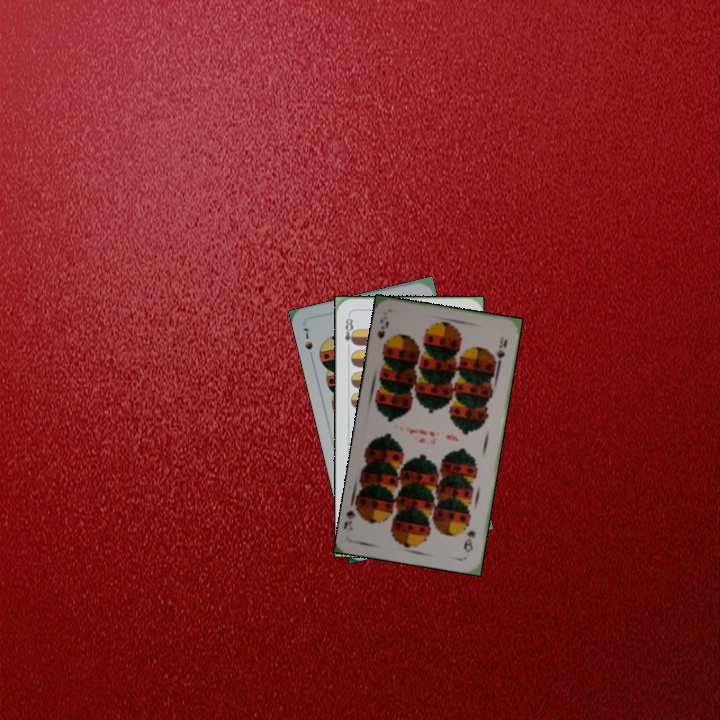E8: (341, 311, 358, 352)
S7: (298, 324, 316, 362)
S9: (373, 317, 392, 352), (460, 527, 478, 555)
